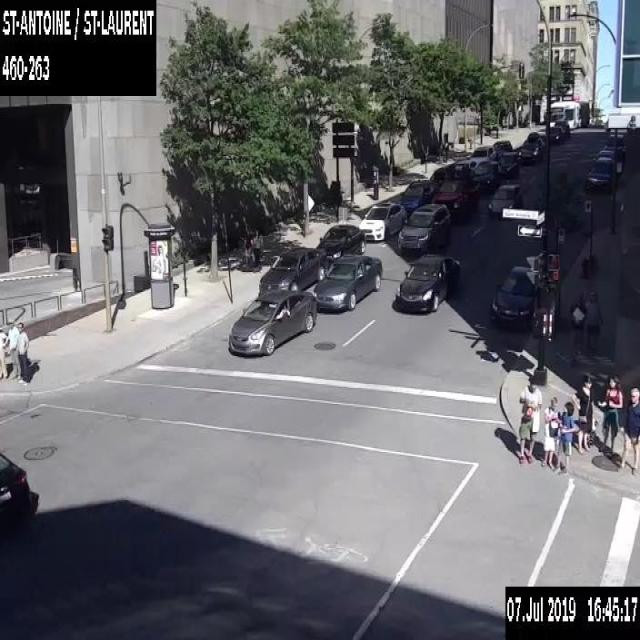bus: (548, 98, 589, 129)
pedestrian: (518, 375, 542, 463), (596, 373, 622, 454), (570, 372, 596, 452), (617, 386, 639, 473), (553, 400, 578, 474), (541, 395, 559, 469), (584, 289, 602, 362), (568, 290, 585, 360), (2, 320, 20, 379), (16, 320, 28, 384), (0, 324, 8, 379), (252, 227, 262, 270), (244, 227, 253, 266)
vehicle: (228, 288, 316, 355), (0, 446, 40, 566), (312, 253, 381, 311), (395, 254, 460, 311), (258, 245, 327, 296), (488, 263, 539, 329), (396, 202, 451, 253), (314, 223, 365, 270), (430, 175, 480, 219), (358, 200, 406, 240), (399, 179, 438, 215), (584, 156, 618, 192), (487, 183, 522, 216), (468, 160, 502, 193), (518, 131, 546, 163), (592, 148, 622, 174), (467, 145, 496, 169), (602, 133, 625, 161), (497, 150, 520, 177), (429, 166, 456, 186), (453, 159, 477, 178), (492, 139, 512, 160), (554, 119, 570, 138), (548, 125, 563, 142)
